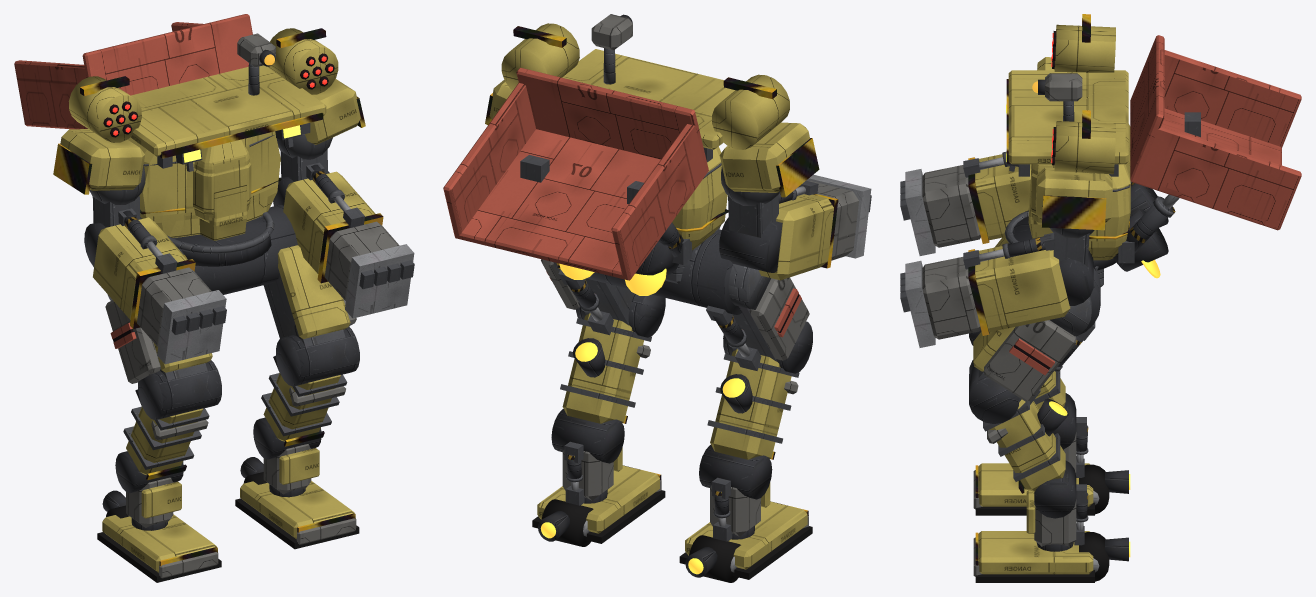
The model's file is mech_mule.glb.
The picture shows the model from 3 angles, left to right: view 1: azimuth 30°, elevation 25°; view 2: azimuth 150°, elevation 25°; view 3: azimuth 270°, elevation 25°; orthographic projection. The views are drawn at different scales.
Parts seen in each view (by area): view 1: cockpit_mule_armor.001, cockpit_mule_livery.001, shoulder_R_mule_armor.001, shoulder_L_mule_armor.001, forearm_R_mule_armor.001, thigh_L_mule_armor.001, forearm_L_mule_armor.001, shin_L_mule_dark.001, shin_R_mule_dark.001, foot_L_mule_armor.001, foot_R_mule_armor.001, pelvis_mule_dark.001 (+42 smaller); view 2: cockpit_mule_livery.001, cockpit_mule_armor.001, shoulder_R_mule_armor.001, shin_L_mule_armor.001, shin_R_mule_armor.001, forearm_R_mule_armor.001, pelvis_mule_dark.001, shoulder_L_mule_armor.001, thigh_R_mule_frame.001, foot_L_mule_armor.001, foot_R_mule_armor.001, hock_L_mule_dark.001 (+27 smaller); view 3: cockpit_mule_livery.001, cockpit_mule_armor.001, forearm_L_mule_armor.001, shoulder_L_mule_armor.001, foot_L_mule_armor.001, thigh_L_mule_armor2.001, hand_L_mule_armor2.001, hand_R_mule_armor2.001, shin_L_mule_armor.001, forearm_R_mule_armor.001, shoulder_R_mule_armor.001, cockpit_mule_dark.001 (+23 smaller).
Part boxes in pixels (<box>): cockpit_mule_armor.001: <box>127,65,326,240</box>; cockpit_mule_livery.001: <box>14,14,252,129</box>; shoulder_R_mule_armor.001: <box>60,76,144,190</box>; shoulder_L_mule_armor.001: <box>268,28,360,144</box>; forearm_R_mule_armor.001: <box>93,217,187,319</box>; thigh_L_mule_armor.001: <box>277,245,350,338</box>; forearm_L_mule_armor.001: <box>283,171,375,273</box>; shin_L_mule_dark.001: <box>273,326,359,386</box>; shin_R_mule_dark.001: <box>135,360,221,420</box>; foot_L_mule_armor.001: <box>240,481,354,538</box>; foot_R_mule_armor.001: <box>102,514,216,572</box>; pelvis_mule_dark.001: <box>172,205,297,294</box>; cockpit_mule_livery.001: <box>443,67,708,280</box>; cockpit_mule_armor.001: <box>562,49,734,250</box>; shoulder_R_mule_armor.001: <box>712,74,809,192</box>; shin_L_mule_armor.001: <box>562,313,643,423</box>; shin_R_mule_armor.001: <box>710,349,791,459</box>; forearm_R_mule_armor.001: <box>758,194,833,280</box>; pelvis_mule_dark.001: <box>553,229,741,314</box>; shoulder_L_mule_armor.001: <box>489,23,579,119</box>; thigh_R_mule_frame.001: <box>706,264,776,370</box>; foot_L_mule_armor.001: <box>537,465,659,533</box>; foot_R_mule_armor.001: <box>685,501,807,569</box>; hock_L_mule_dark.001: <box>551,409,624,478</box>; cockpit_mule_livery.001: <box>1130,35,1301,230</box>; cockpit_mule_armor.001: <box>1008,70,1130,260</box>; forearm_L_mule_armor.001: <box>975,246,1070,331</box>; shoulder_L_mule_armor.001: <box>1035,121,1115,222</box>; foot_L_mule_armor.001: <box>978,531,1093,574</box>; thigh_L_mule_armor2.001: <box>984,320,1076,401</box>; hand_L_mule_armor2.001: <box>922,257,980,339</box>; hand_R_mule_armor2.001: <box>922,165,980,247</box>; shin_L_mule_armor.001: <box>989,399,1065,491</box>; forearm_R_mule_armor.001: <box>975,154,1031,239</box>; shoulder_R_mule_armor.001: <box>1037,24,1115,72</box>; cockpit_mule_dark.001: <box>1007,163,1173,271</box>.
Bounding box in the file's own units: 14.68 × 24.05 × 18.1.
Materials: 13 (7 with a texture image).
